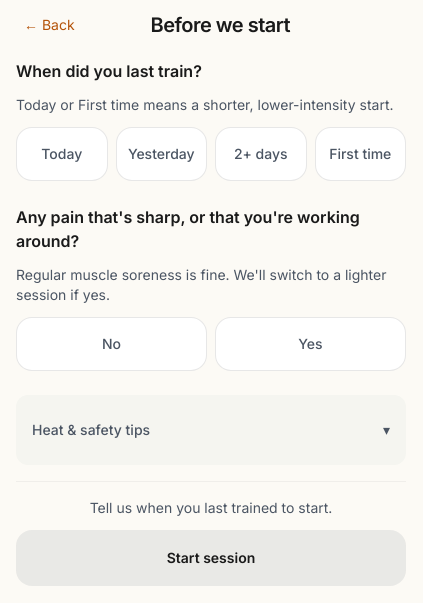
Scenario: SafetyCheckScreen V0B-16 answer-first copy (C-3 Unit 4) › disabled-CTA missingHint (audit follow-up U1 / T2) › hides the hint once both inputs are answered (canContinue path)
Click the radio button labelled "Today" at (62, 154), box [16, 127, 108, 181]
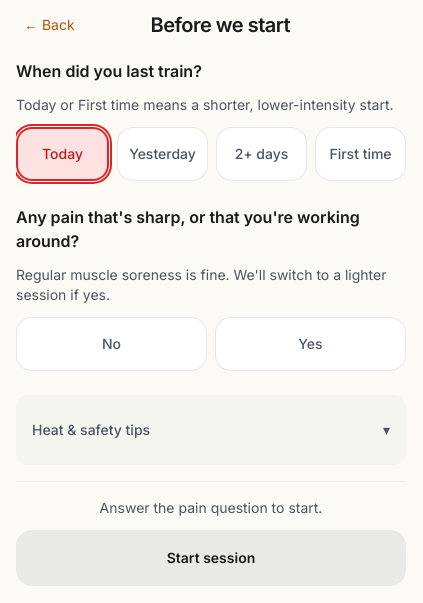
Click the radio button labelled "No" at (112, 344), box [16, 317, 207, 371]
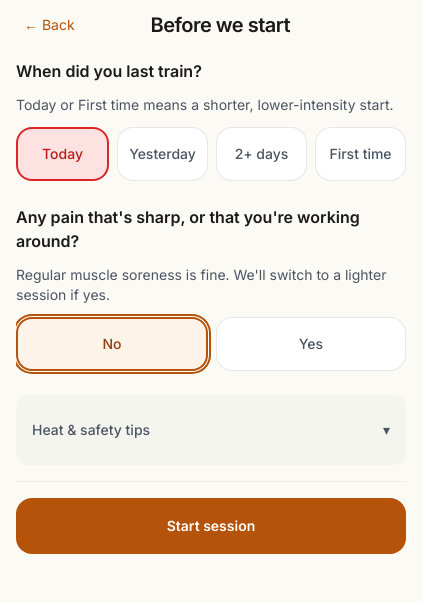
Expected: the text "Tell us when you last trained to start." is not shown
Expected: the text "Answer the pain question to start." is gone
Expected: the button "Start session" is enabled, [16, 498, 406, 554]
